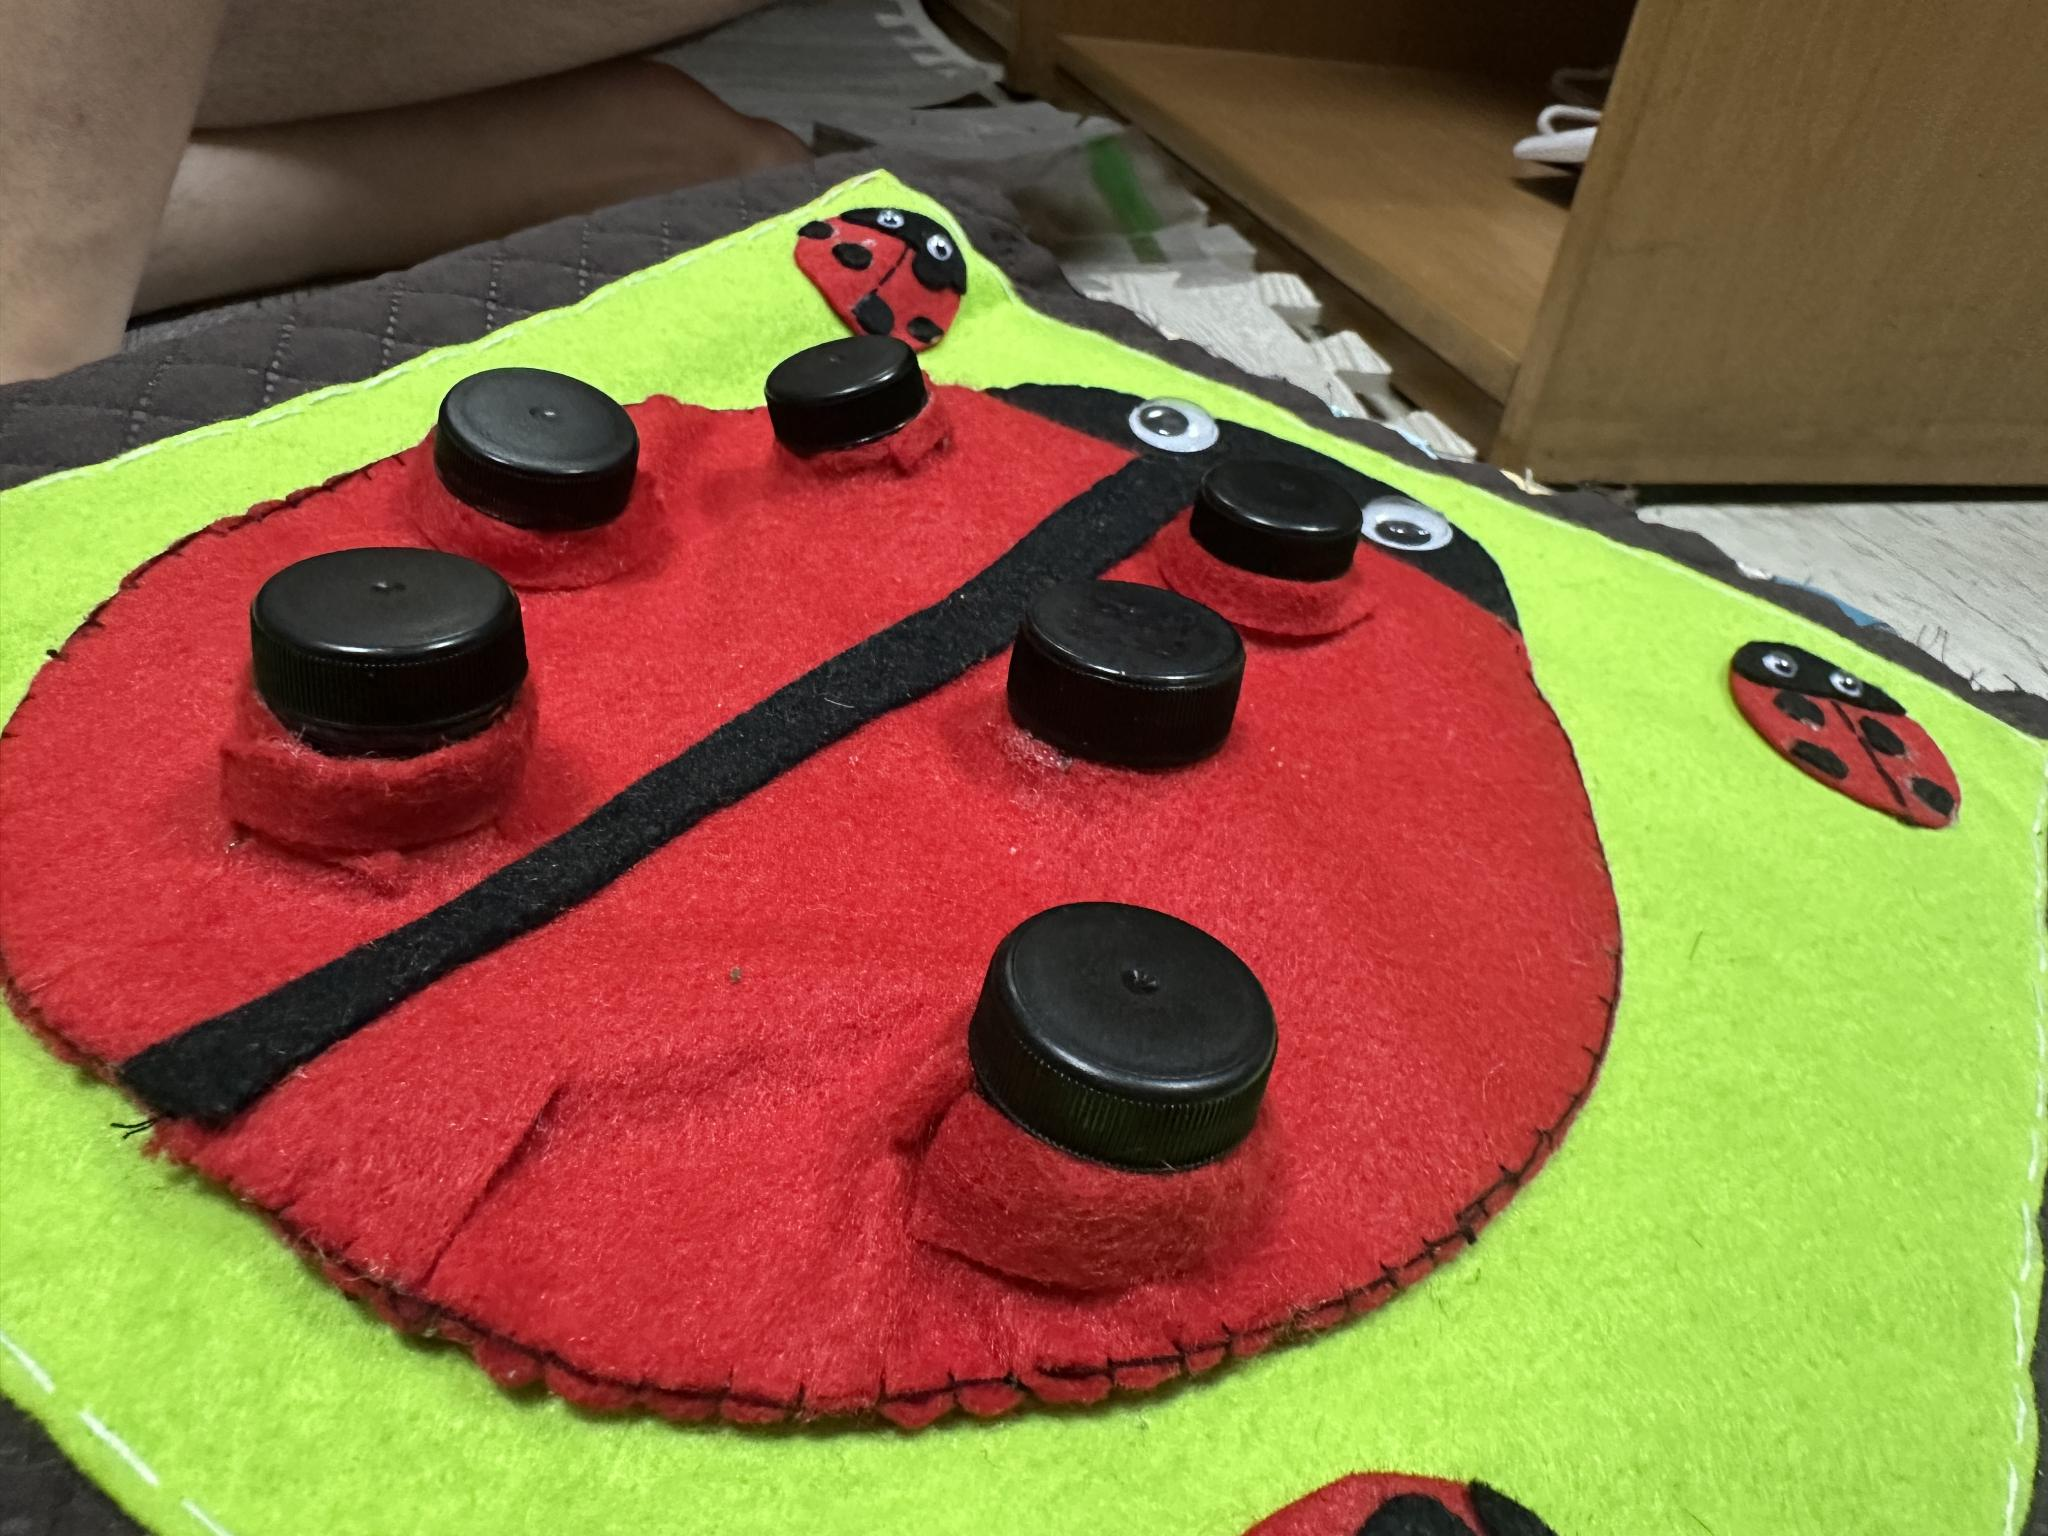cap_ok: (942, 862, 1290, 1310), (224, 529, 543, 854), (976, 565, 1272, 792), (423, 352, 660, 571), (1184, 432, 1379, 641), (740, 324, 969, 490)
